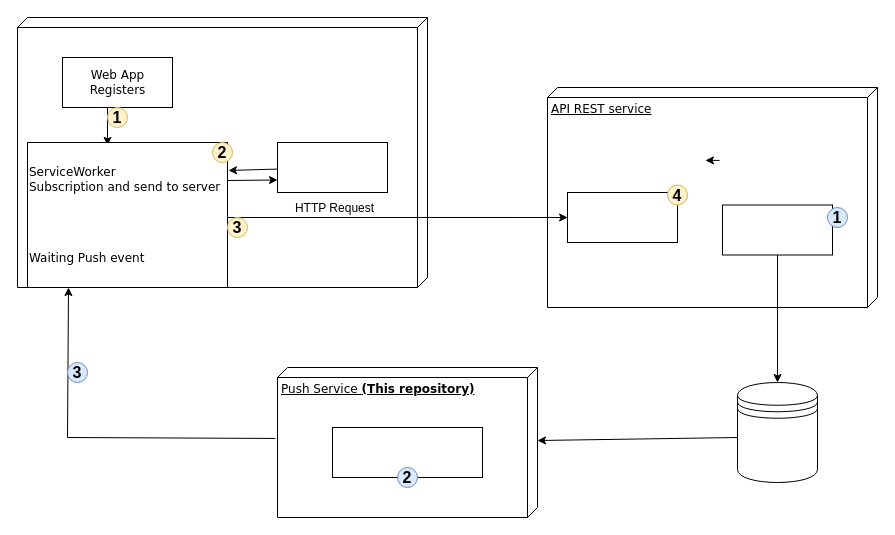
Image size: 895x535. Some labels were removed from this diagram. Each missing label, with the box of its shape:
Client (Web browser): (16, 16, 428, 288)
Notifications storage: (736, 382, 818, 482)
Validate Subscription Delivery to subscriber: (332, 426, 482, 478)
Web Push API: (276, 142, 388, 192)
«interface» Notification subscription: (722, 204, 832, 255)
«interface» Push Handler subscription: (566, 192, 678, 242)
